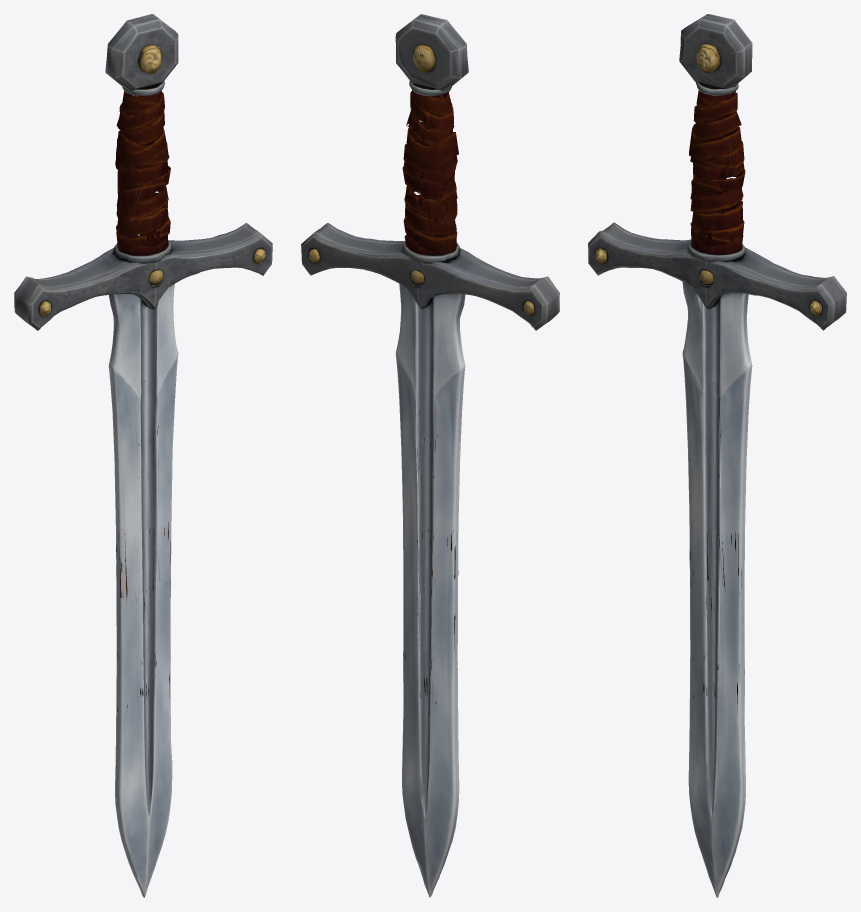
File: warrior_sword.fbx
3 views of the same model, side by side, from view 1: azimuth 30°, elevation 25°; view 2: azimuth 150°, elevation 25°; view 3: azimuth 330°, elevation 25° (orthographic).
Parts seen in each view (by area): view 1: geometry_0; view 2: geometry_0; view 3: geometry_0.
Boxes of the visible parts, x1=… form: geometry_0: x1=14, y1=14, x2=272, y2=897; geometry_0: x1=301, y1=14, x2=559, y2=897; geometry_0: x1=588, y1=14, x2=846, y2=897.
Bounding box in the file's own units: 27.78 × 95.02 × 5.27.
1 material, 1 textured.
